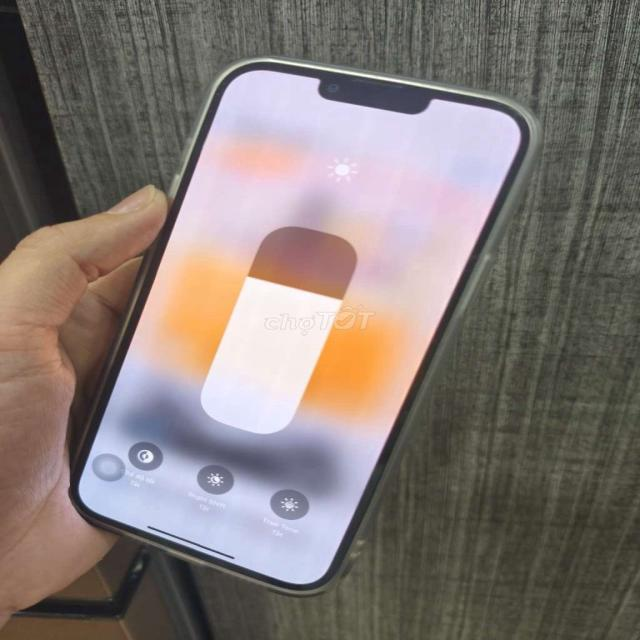gen_12_13: (67, 40, 545, 602)
